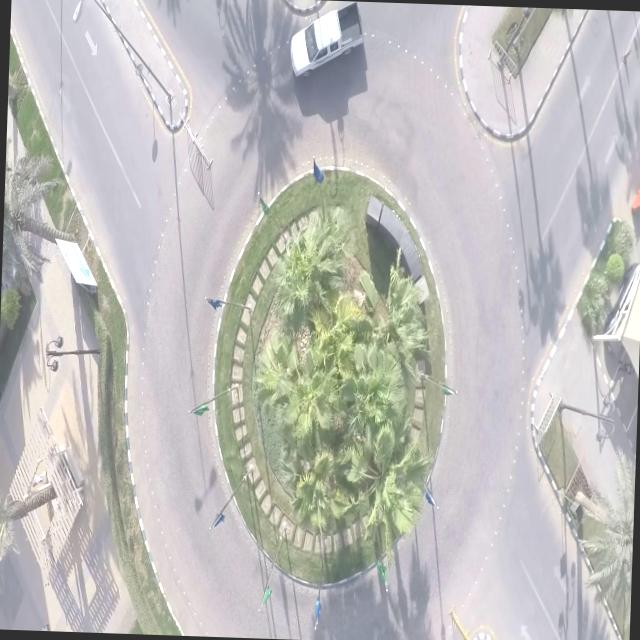car: (288, 2, 361, 82)
